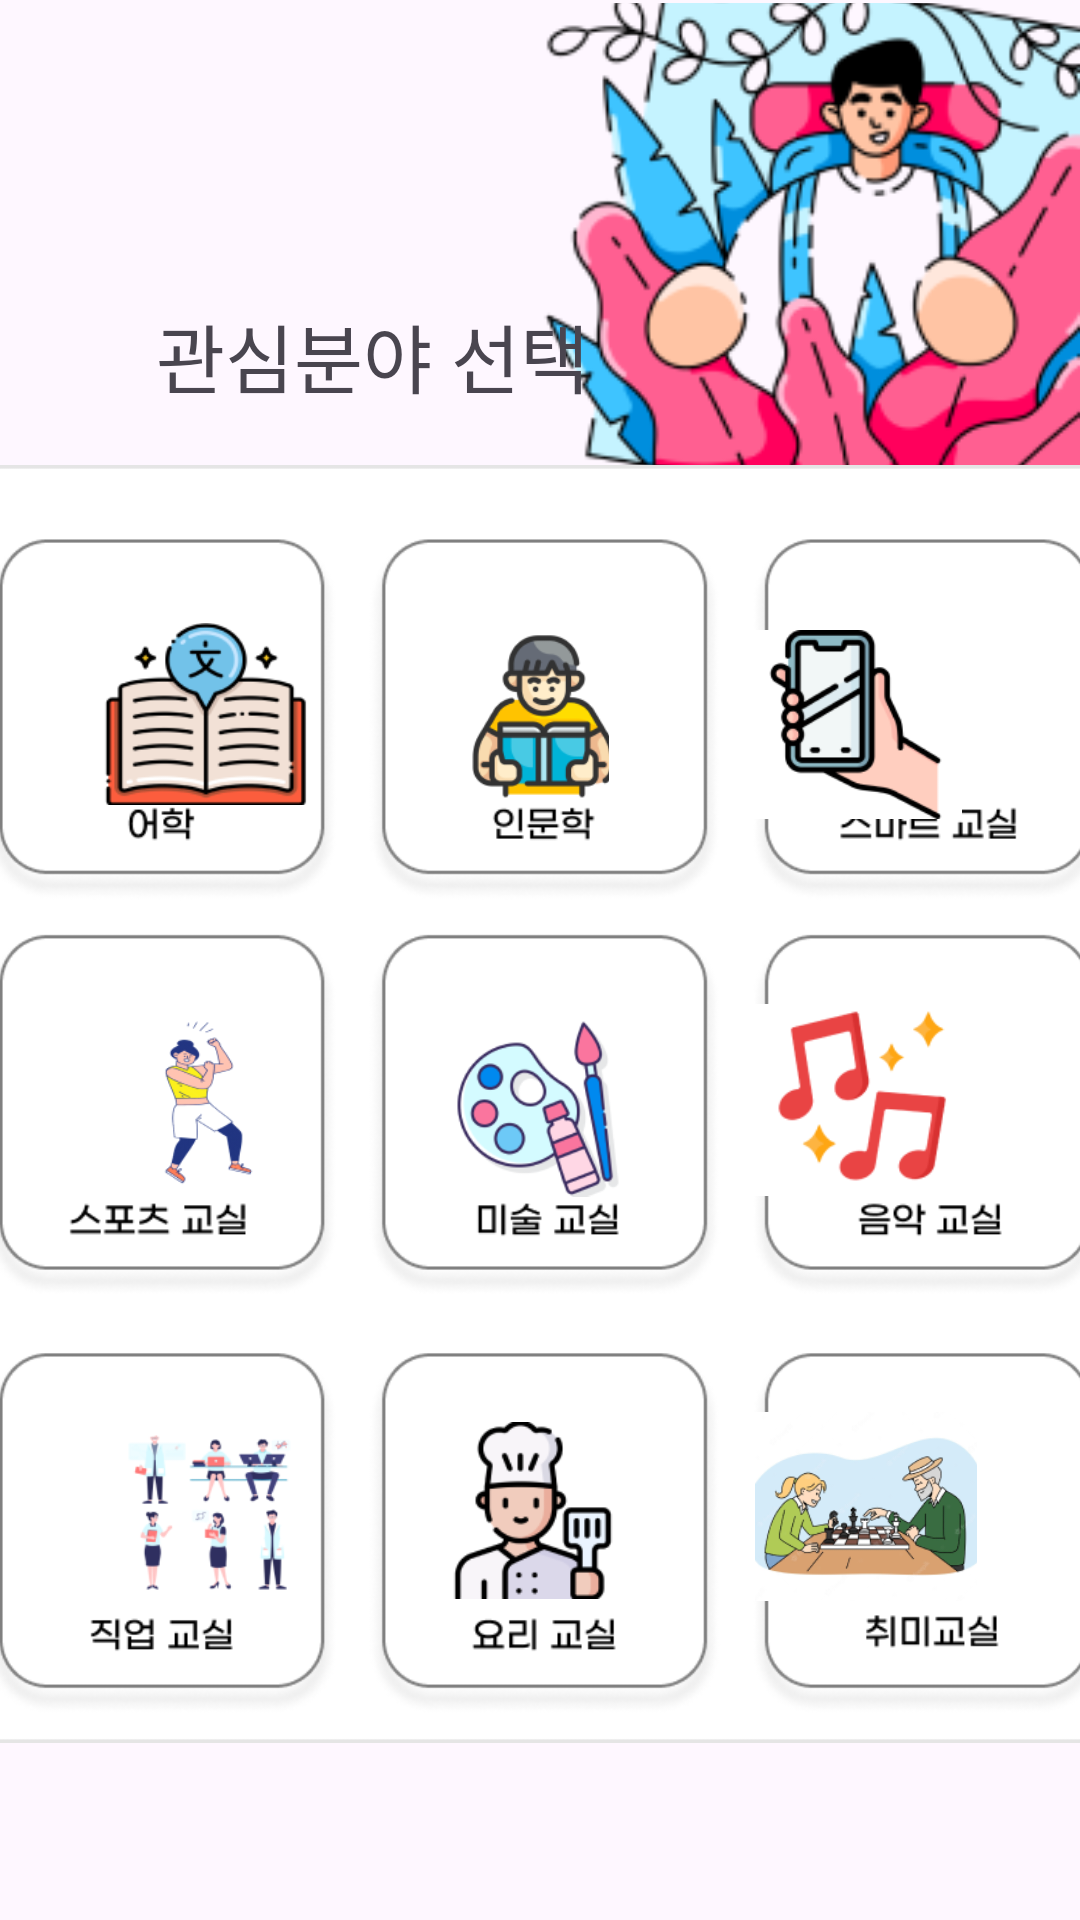

Icon click points for this 1080x1920 phone screenshot, format (x,y):
book: (205,714)
chess: (866,1506)
readingbook: (540,716)
